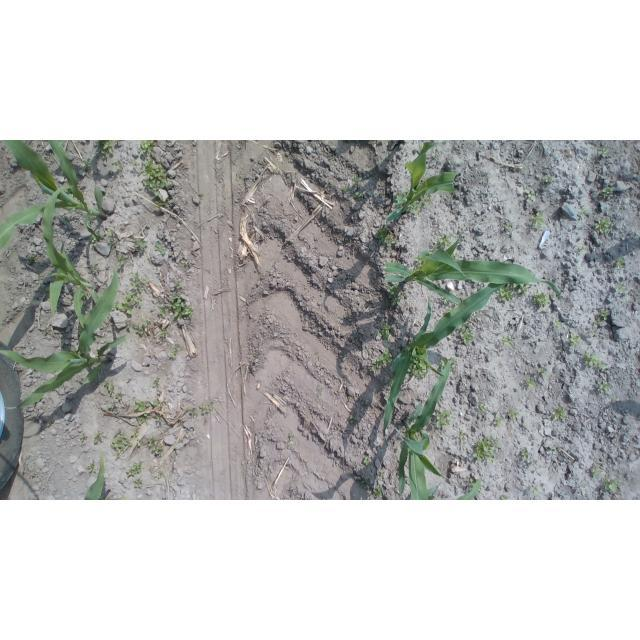Maize: (383, 283, 503, 441), (0, 267, 128, 410), (383, 236, 564, 307), (0, 140, 108, 247), (43, 185, 100, 331), (392, 360, 451, 501), (386, 142, 459, 221), (84, 452, 128, 501), (405, 476, 483, 501)
Weeds: (141, 159, 173, 196), (159, 293, 193, 321), (472, 436, 502, 464), (112, 292, 144, 315), (112, 432, 133, 459), (498, 283, 526, 301), (372, 348, 393, 372), (584, 350, 606, 370), (407, 357, 427, 377), (433, 407, 452, 428), (95, 140, 118, 157), (458, 322, 474, 346), (376, 225, 396, 244), (128, 272, 149, 290), (387, 284, 404, 306), (134, 318, 153, 337), (596, 217, 613, 235), (533, 291, 552, 307), (602, 476, 619, 493), (148, 438, 165, 454), (441, 356, 458, 372), (138, 140, 154, 157), (406, 201, 422, 217), (531, 212, 545, 229), (596, 379, 613, 393), (127, 462, 142, 477), (437, 233, 452, 248), (134, 398, 150, 412), (378, 324, 391, 341), (552, 407, 567, 421), (156, 196, 169, 212), (136, 238, 149, 254), (396, 192, 409, 208), (112, 157, 124, 173), (569, 332, 582, 346), (603, 186, 616, 199), (356, 477, 370, 489), (105, 379, 116, 393), (154, 243, 166, 255), (384, 376, 395, 389), (525, 189, 536, 201), (115, 253, 125, 266), (351, 174, 361, 187), (200, 404, 214, 413), (137, 413, 149, 423), (82, 158, 92, 170), (456, 430, 465, 443), (106, 229, 114, 243), (373, 487, 383, 498), (613, 257, 623, 268), (543, 174, 554, 184), (503, 336, 513, 347), (27, 255, 39, 264), (170, 345, 177, 360), (492, 416, 502, 426), (152, 377, 161, 388), (525, 379, 536, 388), (509, 410, 518, 421), (521, 448, 529, 460), (188, 408, 196, 420), (415, 255, 423, 267), (504, 222, 516, 230), (88, 463, 97, 473), (538, 368, 548, 377), (160, 327, 169, 337), (94, 434, 102, 445), (151, 401, 163, 408), (427, 249, 439, 256), (468, 478, 477, 487), (89, 234, 98, 243), (236, 172, 245, 181), (355, 192, 364, 201), (600, 311, 610, 319), (615, 284, 625, 292), (592, 468, 600, 477), (580, 209, 589, 217), (154, 471, 163, 479), (134, 480, 142, 489), (132, 160, 140, 169), (88, 264, 97, 272), (479, 404, 488, 412), (285, 436, 293, 444), (553, 319, 561, 327), (131, 428, 139, 436), (363, 457, 370, 466), (180, 259, 189, 266), (341, 186, 348, 195), (424, 196, 431, 205), (531, 486, 538, 494), (175, 281, 182, 289), (404, 160, 411, 168), (350, 413, 355, 424), (108, 404, 117, 410), (77, 374, 83, 383), (595, 319, 601, 327), (601, 147, 609, 153), (115, 392, 121, 400), (452, 253, 460, 259), (125, 319, 131, 327), (136, 439, 143, 445), (589, 329, 596, 335), (500, 496, 508, 501), (577, 246, 585, 251), (554, 444, 560, 450), (46, 421, 52, 427), (157, 416, 163, 422), (419, 144, 423, 152), (376, 141, 385, 144), (80, 436, 85, 441), (612, 398, 617, 403), (477, 488, 481, 493), (532, 461, 536, 466), (348, 396, 352, 400)
